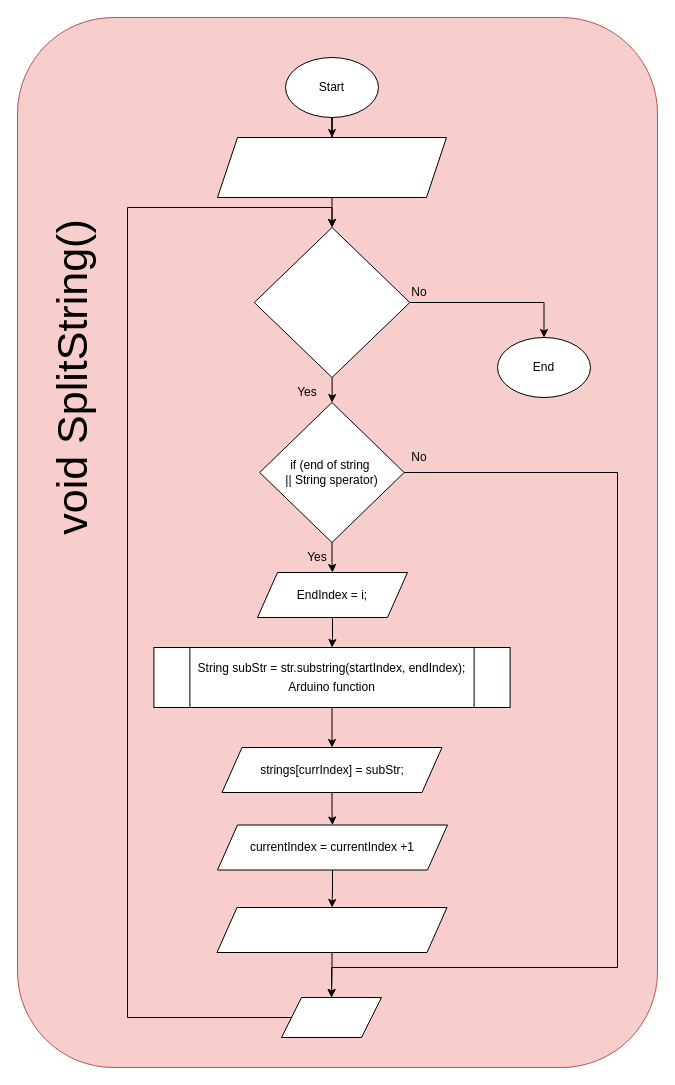
The diagram is 675 pixels wide and 1085 high, and some of its shapes have lost their labels. Each missing label, with the box of its shape:
i ++;: (280, 996, 382, 1038)
int CurrentIndex = 0; int i = 0; int startIndex = 0; int endIndex = 0;: (216, 136, 446, 198)
startIndex = endIndex +1: (216, 906, 447, 952)
While (i <= Data length: (253, 226, 410, 378)
